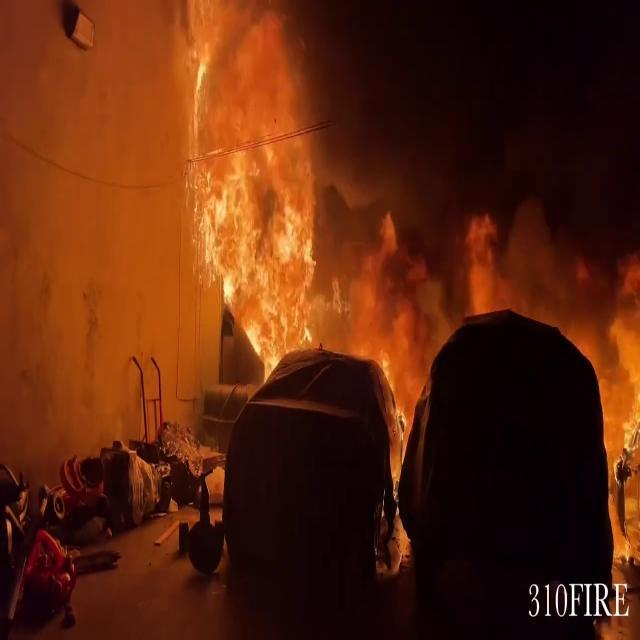Fire: (167, 0, 356, 354), (593, 333, 640, 569)
Smoke: (310, 130, 622, 358)
